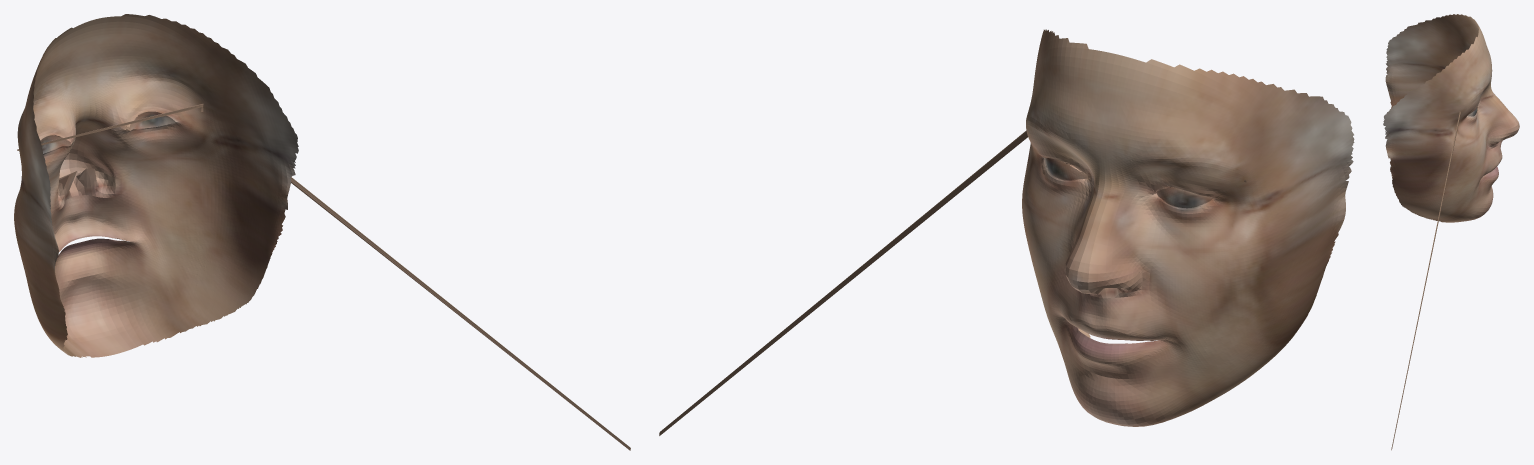
Rendered from predict_model.glb.
3 renders of one model, left to right at view 1: azimuth 30°, elevation 25°; view 2: azimuth 150°, elevation 25°; view 3: azimuth 270°, elevation 25°, orthographic. The views are drawn at different scales.
Bounding box in the file's own units: 158 × 126 × 54.12.
